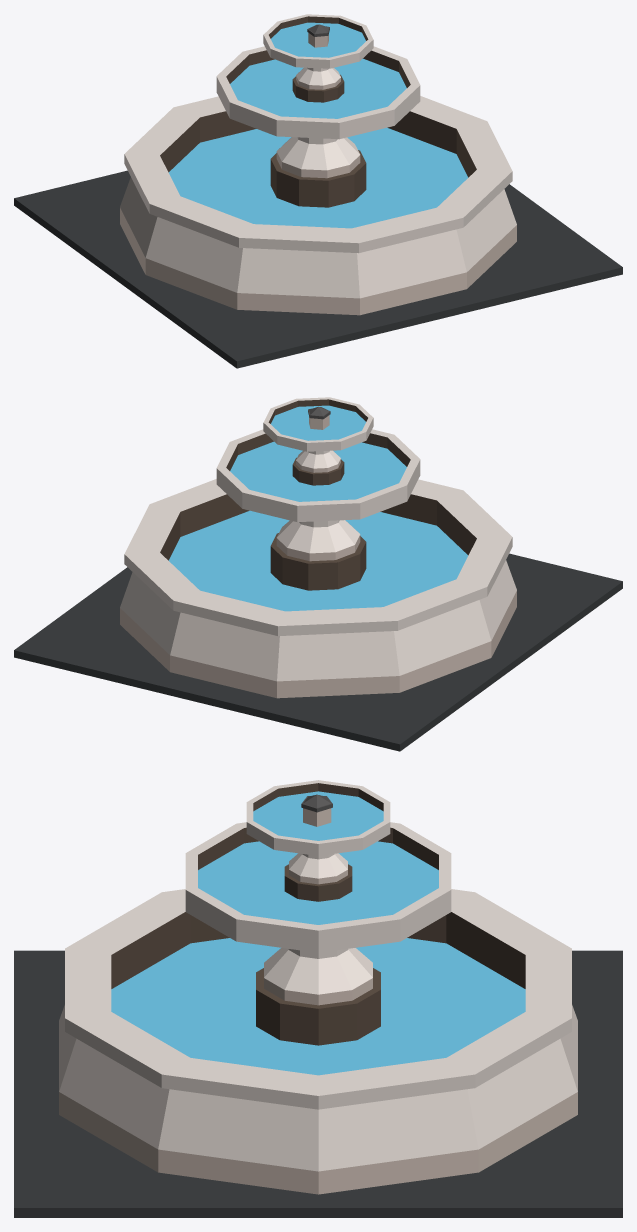
The model's file is GardenFountain.fbx.
3 renders of one model, top to bottom at view 1: azimuth 30°, elevation 25°; view 2: azimuth 150°, elevation 25°; view 3: azimuth 270°, elevation 25°, orthographic. The views are drawn at different scales.
Visible parts, largest first — view 1: pCylinder1, pCube1, pCylinder2, pCylinder3; view 2: pCylinder1, pCube1, pCylinder2, pCylinder3; view 3: pCylinder1, pCube1, pCylinder2, pCylinder3, pCylinder4.
Part boxes in pixels (x1=…): pCylinder1: x1=120, y1=96, x2=516, y2=315; pCube1: x1=14, y1=170, x2=622, y2=368; pCylinder2: x1=216, y1=46, x2=420, y2=207; pCylinder3: x1=263, y1=14, x2=373, y2=102; pCylinder1: x1=120, y1=479, x2=516, y2=698; pCube1: x1=14, y1=553, x2=622, y2=751; pCylinder2: x1=216, y1=429, x2=420, y2=590; pCylinder3: x1=263, y1=397, x2=373, y2=485; pCylinder1: x1=59, y1=889, x2=577, y2=1194; pCube1: x1=14, y1=950, x2=622, y2=1217; pCylinder2: x1=185, y1=822, x2=451, y2=1045; pCylinder3: x1=246, y1=780, x2=390, y2=901; pCylinder4: x1=301, y1=794, x2=332, y2=826.
Size of the model in its own units: 18 by 9.62 by 18.
Materials: 1 (1 with a texture image).
